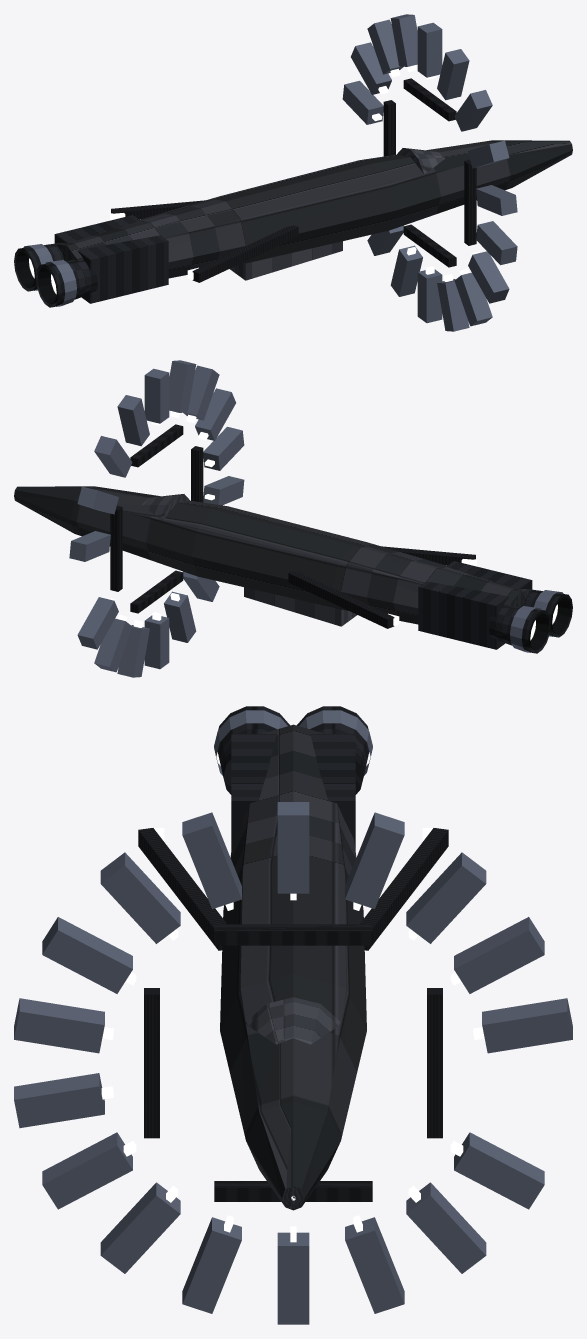
File: scout.glb
3 views of the same model, one above another, from view 1: azimuth 30°, elevation 25°; view 2: azimuth 150°, elevation 25°; view 3: azimuth 270°, elevation 25° (orthographic). The views are drawn at different scales.
Parts seen in each view (by area): view 1: scout; view 2: scout; view 3: scout.
Part boxes in pixels (x1=…): scout: x1=14, y1=14, x2=572, y2=331; scout: x1=14, y1=360, x2=572, y2=677; scout: x1=14, y1=706, x2=572, y2=1324.
Size of the model in its own units: 18 by 9.36 by 9.31.
1 material, 1 textured.
